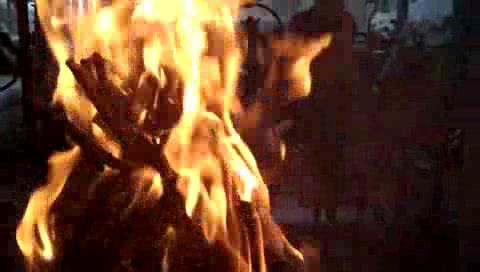fire: (20, 6, 309, 272)
